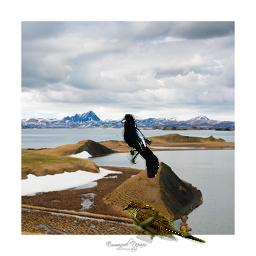Crow: (121, 114, 159, 178)
Cuckoo: (122, 200, 206, 244)
